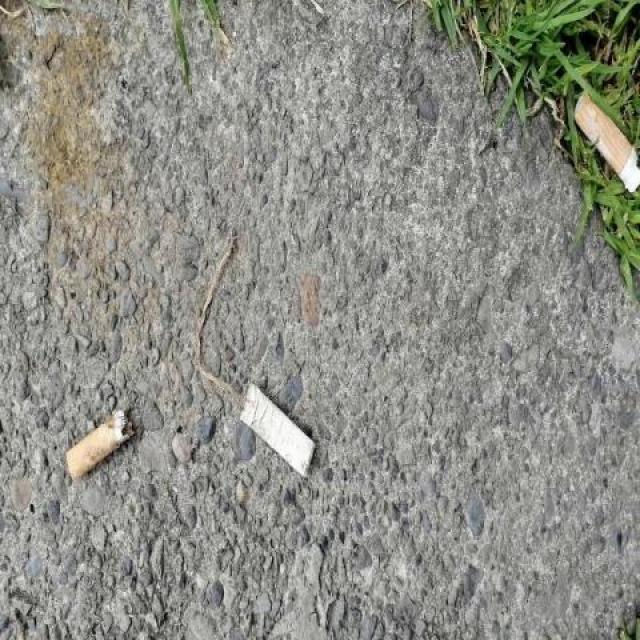non-organic waste: (235, 379, 321, 482), (568, 91, 640, 197), (61, 404, 136, 485)
